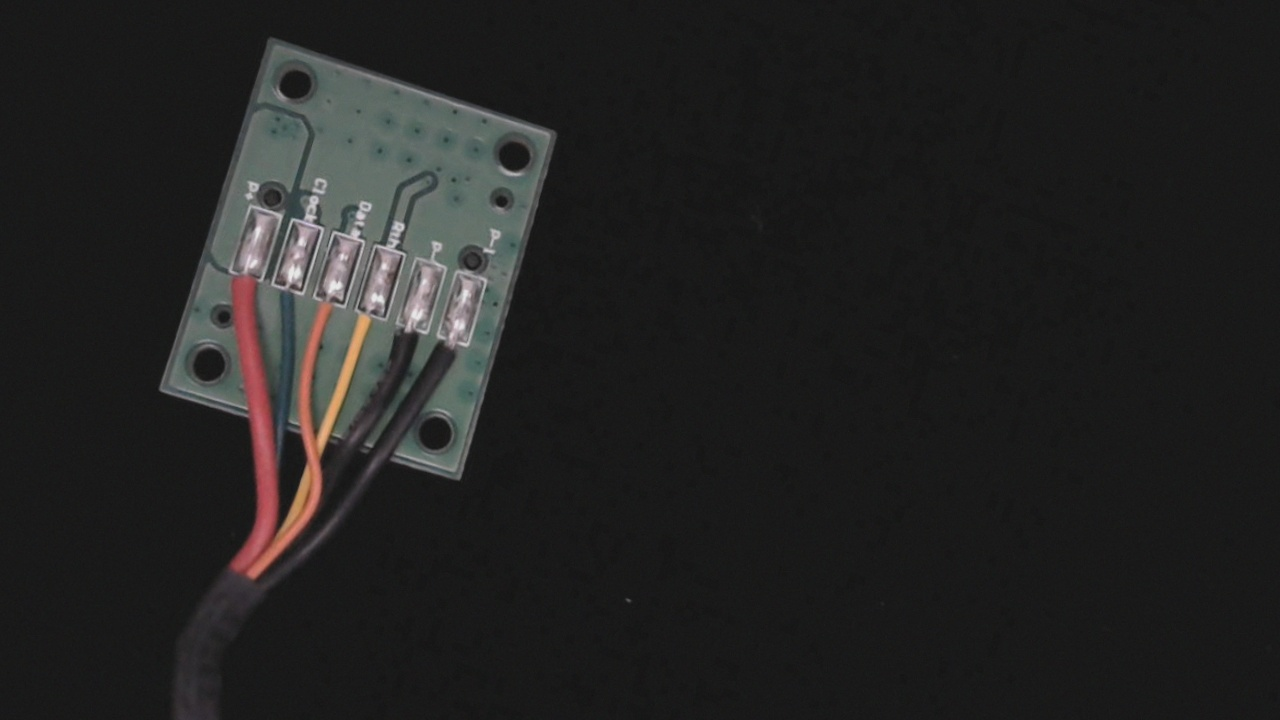Black: (378, 304, 434, 385)
Black1: (420, 317, 475, 400)
Green: (256, 264, 310, 345)
Orange: (299, 280, 351, 353)
Red: (213, 250, 267, 331)
Yellow: (335, 290, 391, 376)
